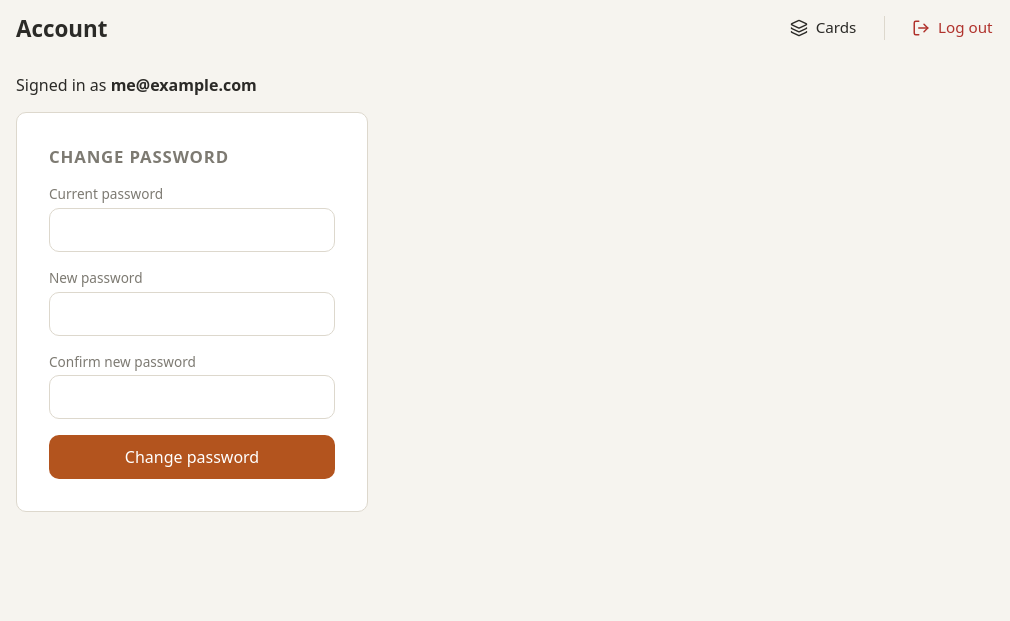
it: AccountPage › shows the signed-in email and changes the password
The width and height of the screenshot is (1010, 621).
Expected: the text "me@example.com" is shown, [111,74,257,96]
Type "old-password" into the password field labelled "Current password".
click(192, 230); type("old-password")  # box [49,208,335,252]
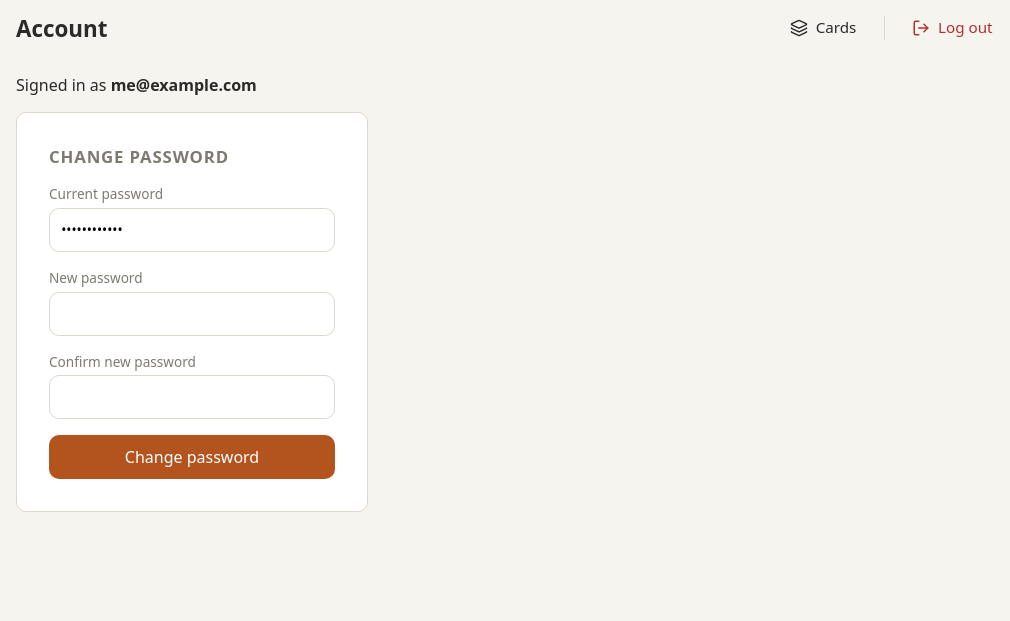
Type "new-password-1" into the password field labelled "New password".
click(192, 314); type("new-password-1")  # box [49,292,335,336]
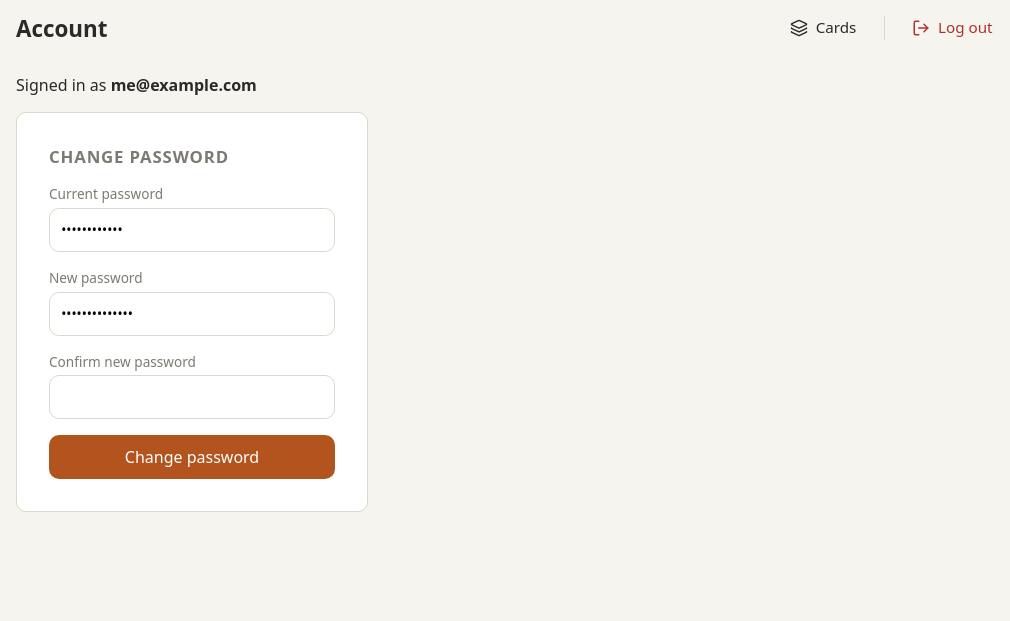
Type "new-password-1" into the password field labelled "Confirm new password".
click(192, 397); type("new-password-1")  # box [49,375,335,419]
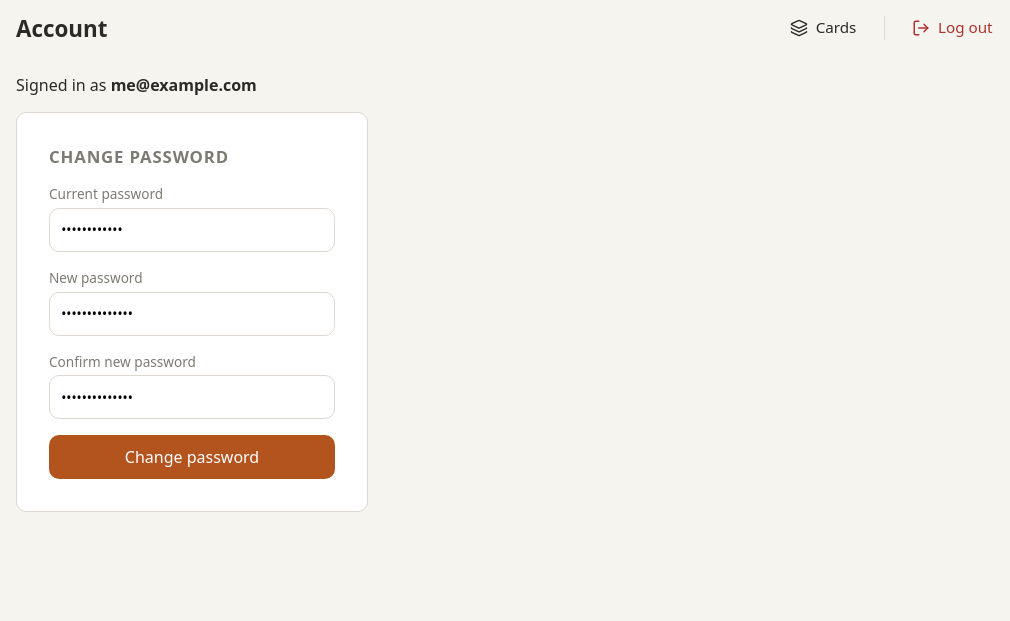
Click the button "Change password".
click(192, 457)  # box [49,435,335,479]
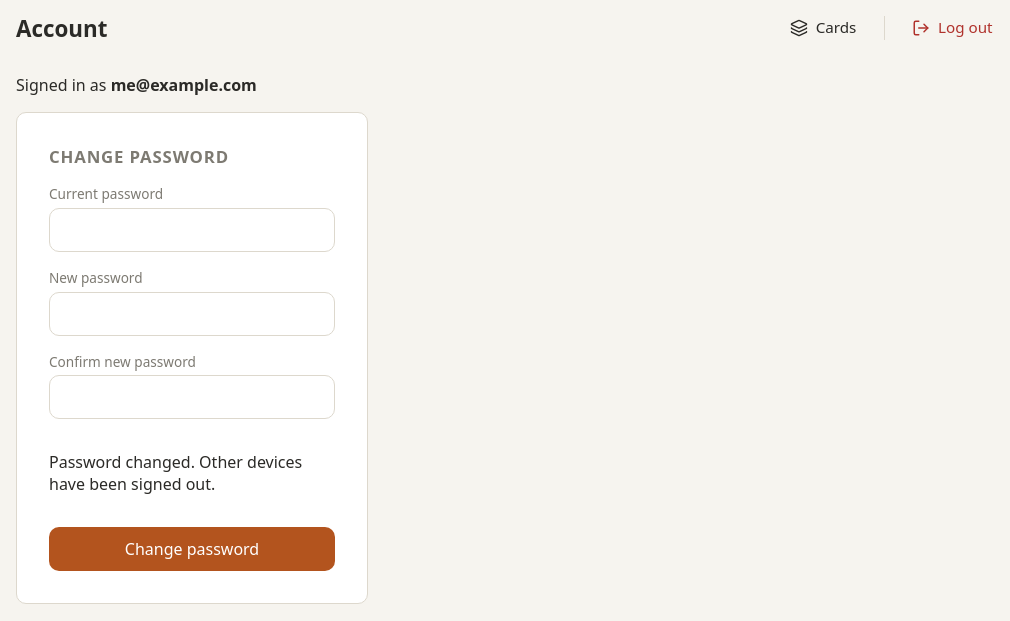
Now the message shows "Password changed", box [49,451,302,495]
